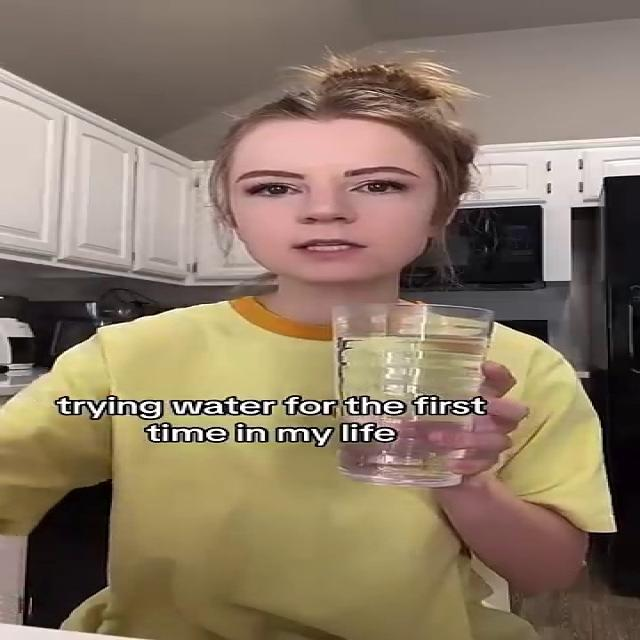Cup: (329, 301, 494, 488)
Hand: (322, 356, 546, 487)
Mouth: (284, 233, 378, 257)
